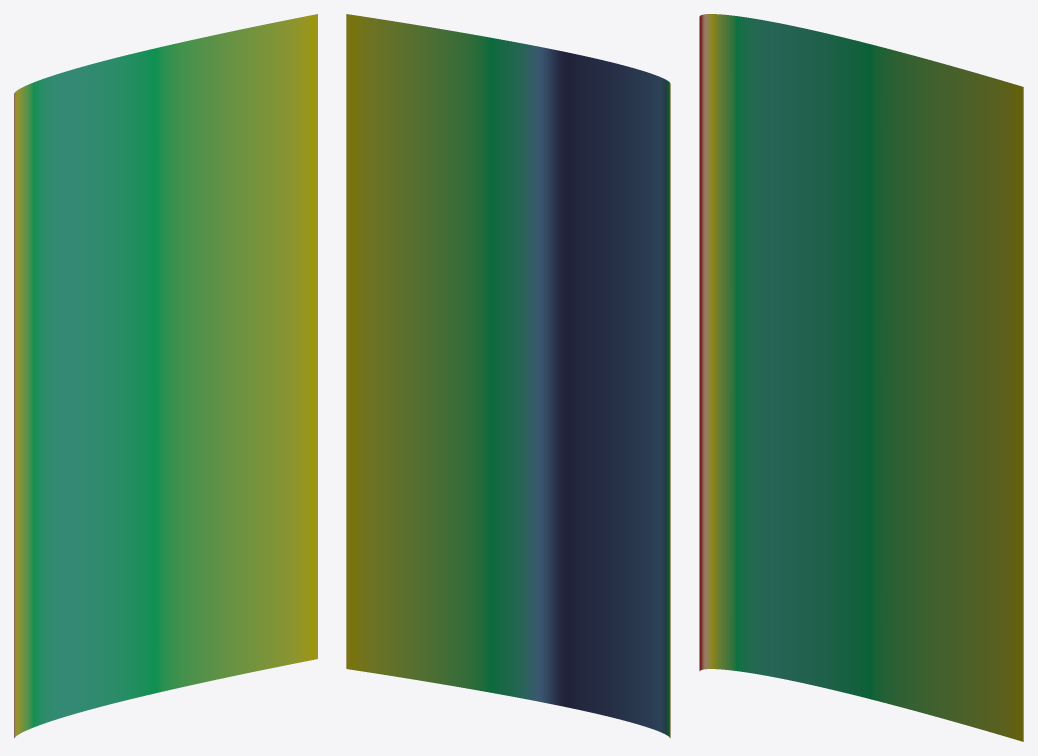
File: morphing_wing_11.glb
3 renders of one model, left to right at view 1: azimuth 30°, elevation 25°; view 2: azimuth 150°, elevation 25°; view 3: azimuth 330°, elevation 25°, orthographic.
Visible parts, largest first — view 1: part_0_0; view 2: part_0_0; view 3: part_0_0.
Part boxes in pixels (x1,y1,x2,y2): part_0_0: (14,14,317,738); part_0_0: (346,14,670,738); part_0_0: (699,14,1023,741).
Bounding box in the file's own units: 1.01 × 2 × 0.1242.
